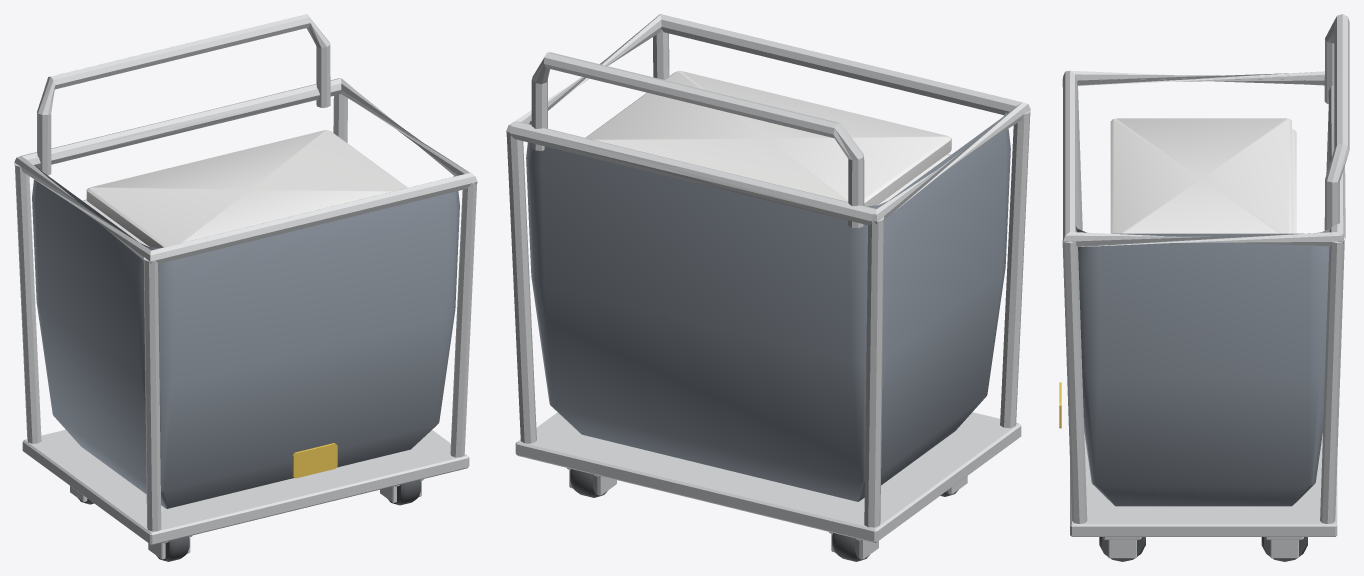
File: rolling-laundry-cart.glb
3 renders of one model, left to right at view 1: azimuth 30°, elevation 25°; view 2: azimuth 150°, elevation 25°; view 3: azimuth 270°, elevation 25°, orthographic. The views are drawn at different scales.
Visible parts, largest first — view 1: laundry-cart-rolling; view 2: laundry-cart-rolling; view 3: laundry-cart-rolling.
Boxes of the visible parts, x1,y1,x2,y2 form: laundry-cart-rolling: (14,14,477,561); laundry-cart-rolling: (506,14,1030,561); laundry-cart-rolling: (1059,14,1349,561).
Size of the model in its own units: 0.832 by 0.9759 by 0.6084.
